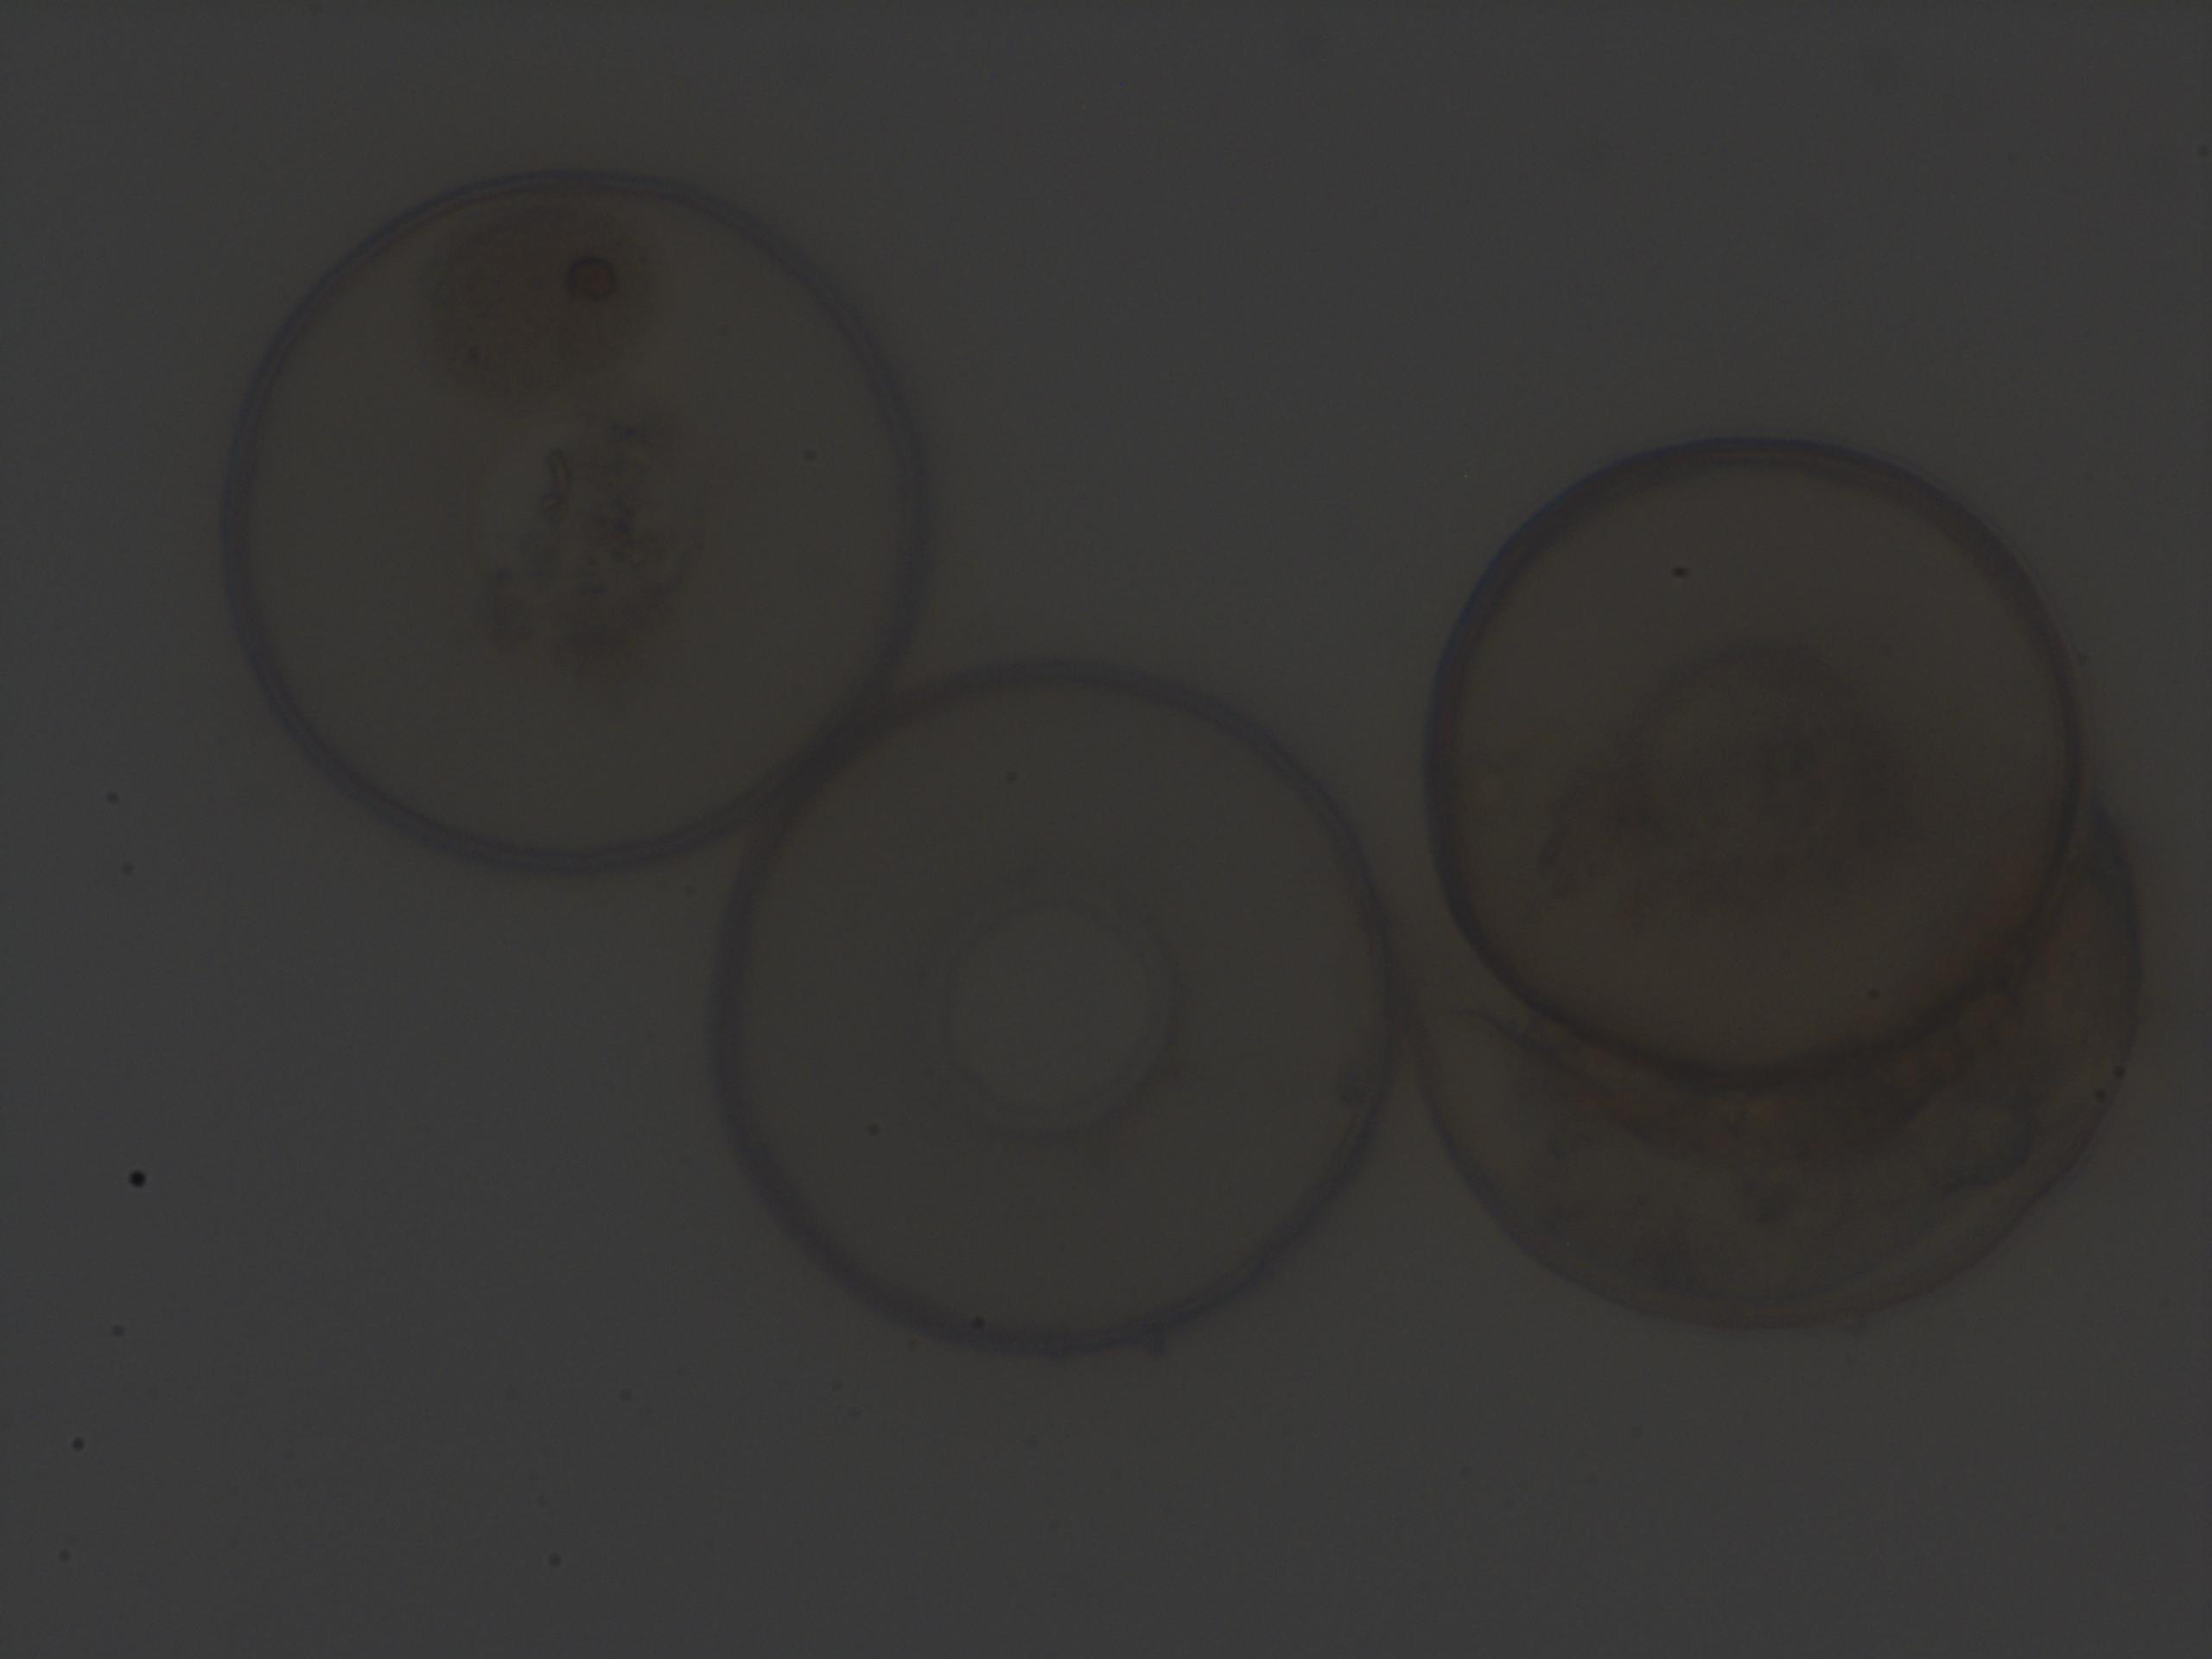protozoa: (698, 636, 1420, 1385), (202, 148, 928, 885), (1423, 423, 2097, 1094)
